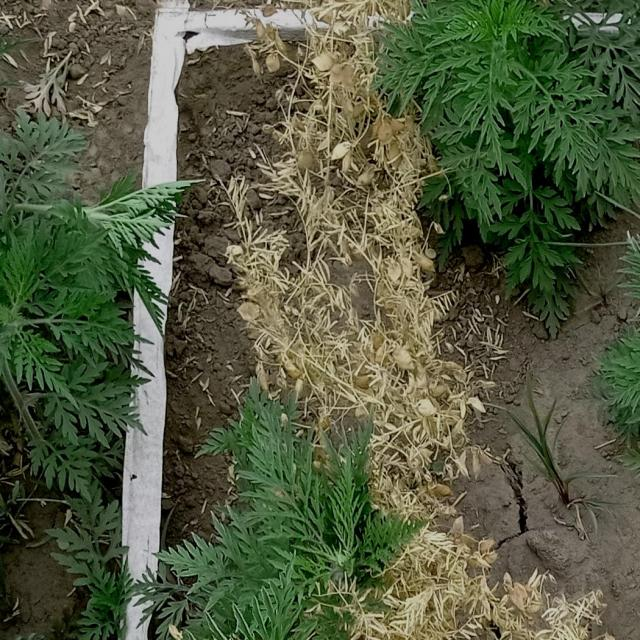AMBEL: (384, 4, 639, 334), (182, 378, 421, 639), (612, 208, 639, 566)
